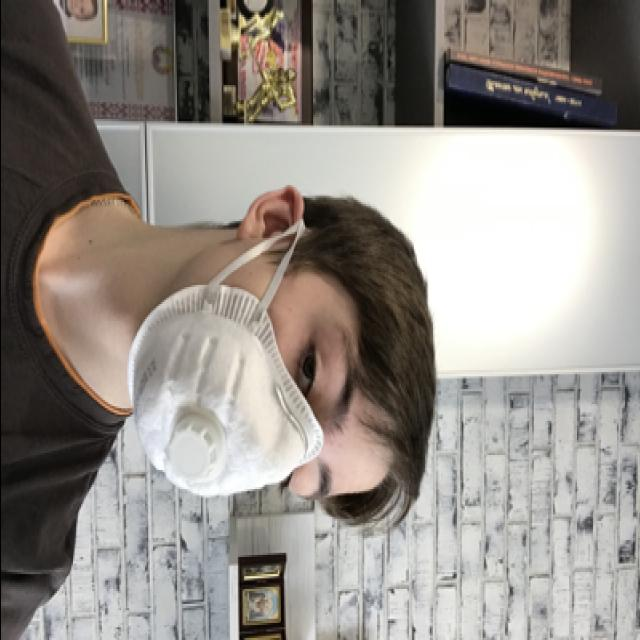with_mask: (125, 260, 363, 503)
